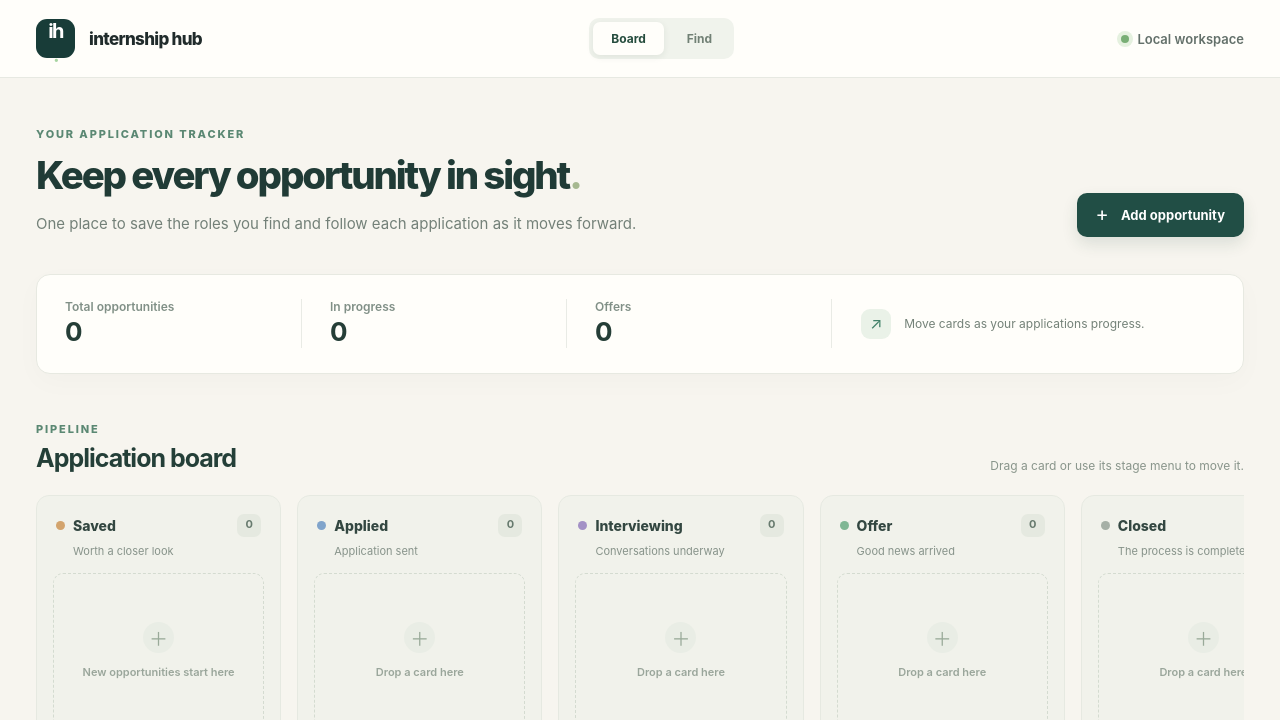
Scenario: prefills Greenhouse details for review while keeping the pasted application URL
Click the button "Find" at (699, 38), box [669,22,730,55]
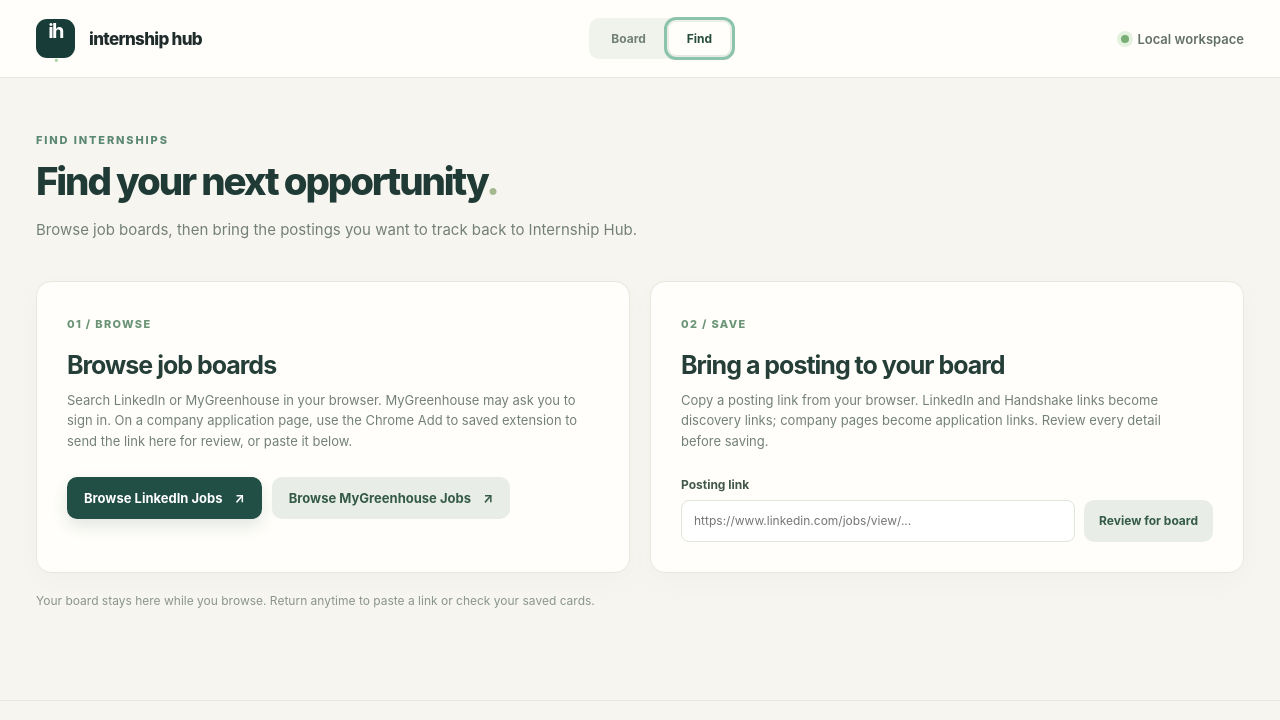
Type "https://job-boards.greenhouse.io/example/jobs/12345?gh_src=linkedin" into the field labelled "Posting link" at (878, 521), box [681,500,1075,542]
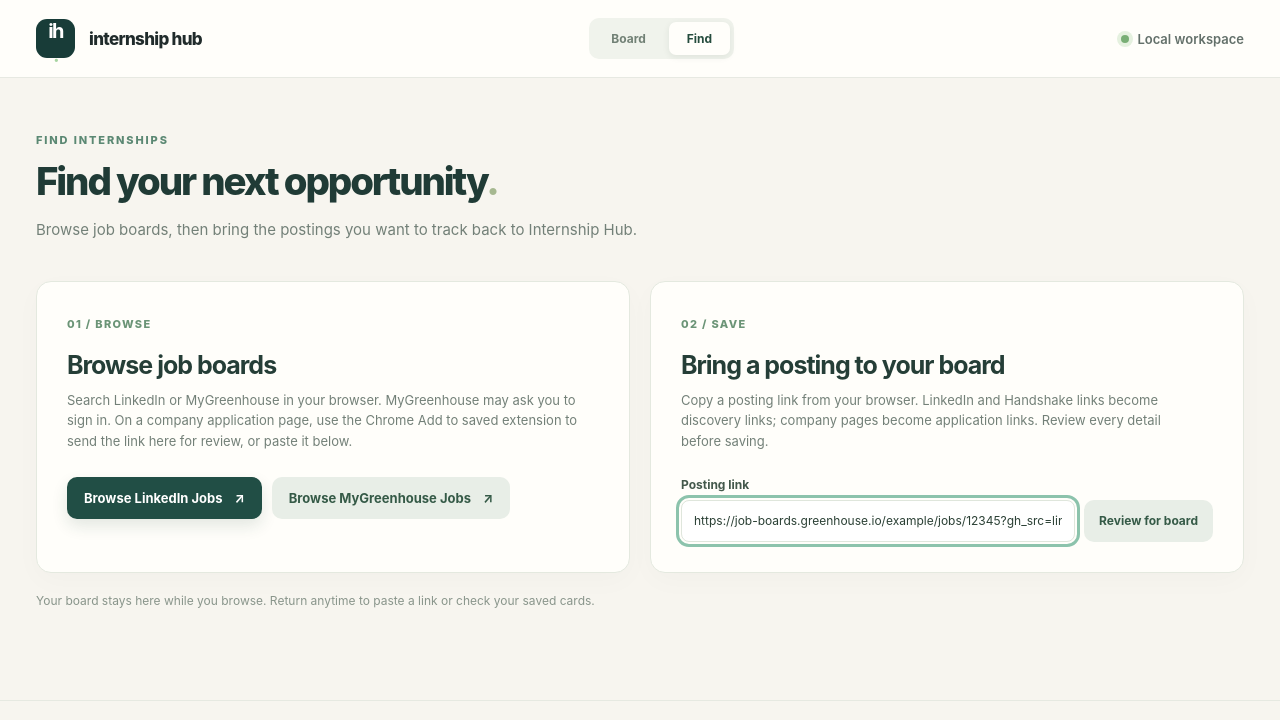
Click the button "Review for board" at (1149, 521), box [1084,500,1213,542]
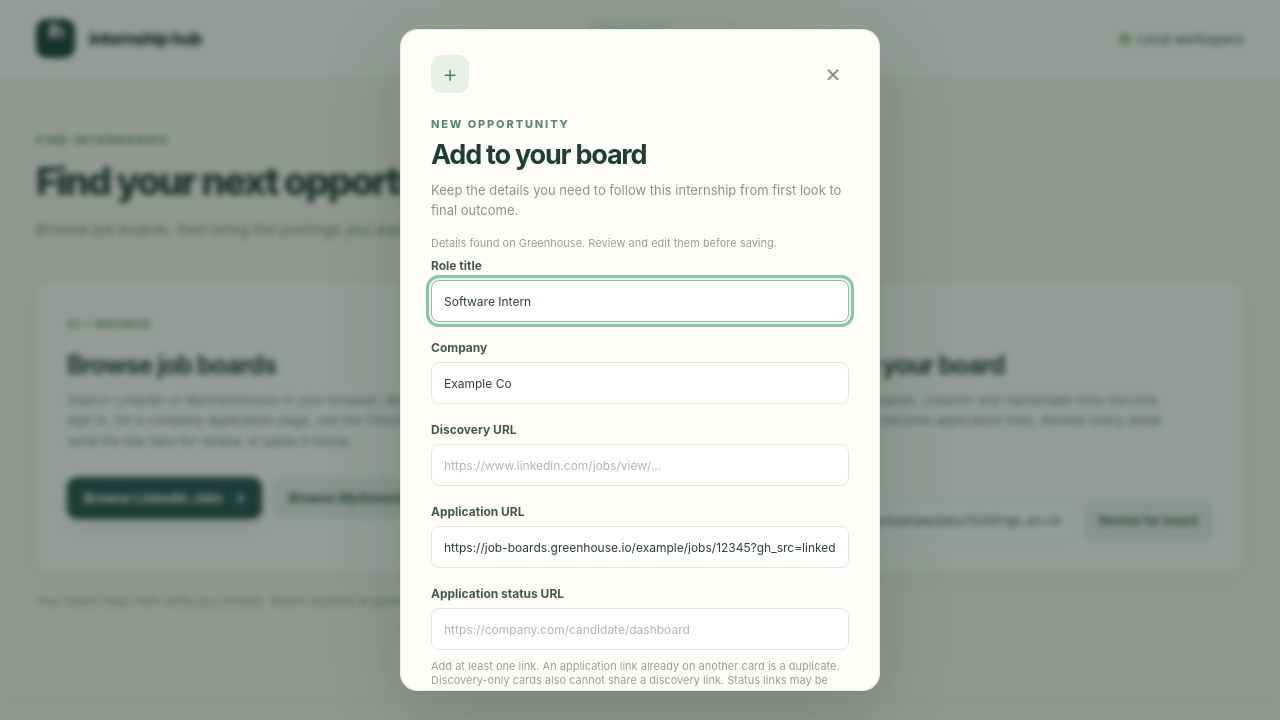
Expected: the field labelled "Role title" holds "Software Intern"
Expected: the field labelled "Company" holds "Example Co", [431,362,849,404]
Expected: the field labelled "Application URL" holds "https://job-boards.greenhouse.io/example/jobs/12345?gh_src=linkedin", [431,526,849,568]
Replace the text in the field labelled "Role title" with "Platform Intern" at (640, 301), box [431,280,849,322]
(page scrolled)
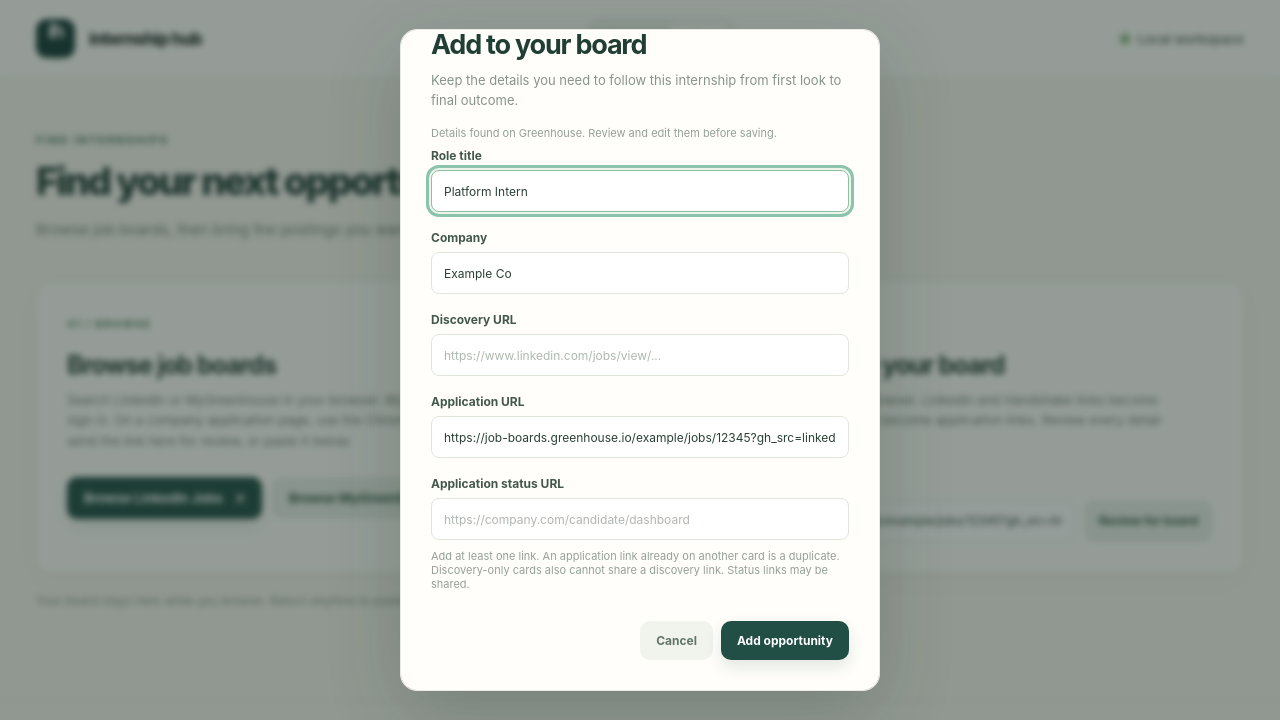
Click the button "Add opportunity" at (785, 641), box [721,621,849,660]
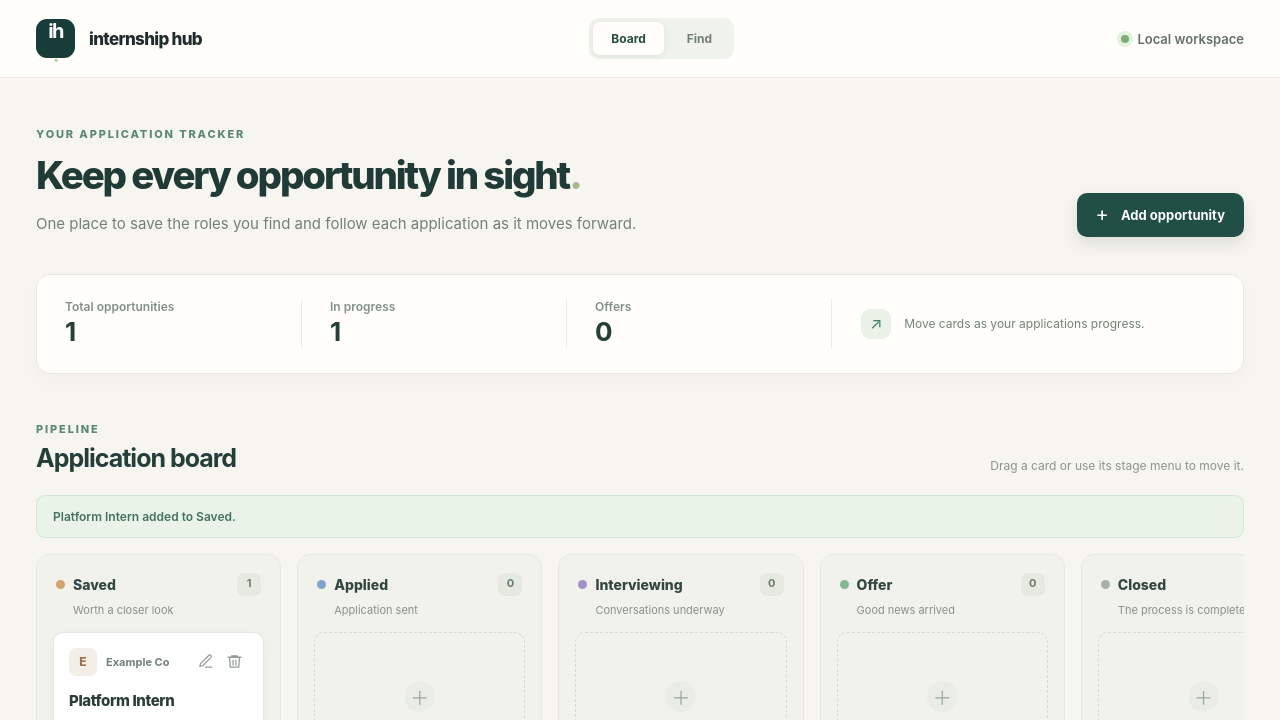
Expected: the heading "Platform Intern" is shown, [69,690,174,710]
